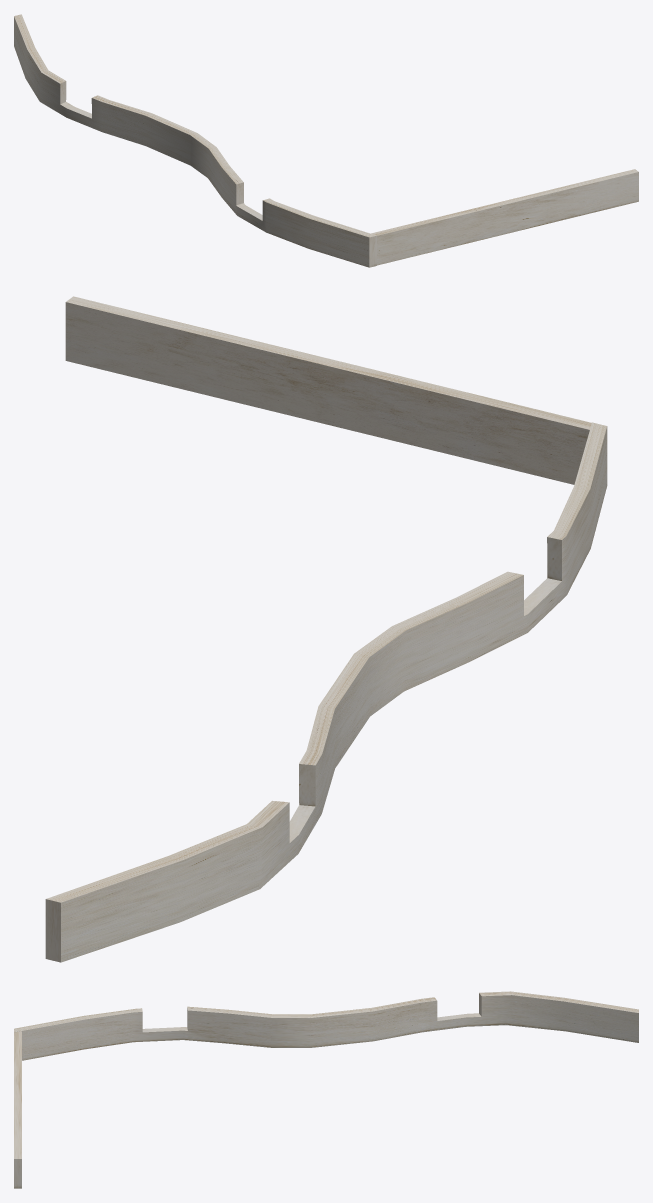
Rendered from Barda.obj.
3 views of the same model, one above another, from view 1: azimuth 30°, elevation 25°; view 2: azimuth 150°, elevation 25°; view 3: azimuth 270°, elevation 25° (orthographic). The views are drawn at different scales.
Parts seen in each view (by area): view 1: pCube10; view 2: pCube10; view 3: pCube10.
Part boxes in pixels (x1=…): pCube10: x1=14, y1=14, x2=638, y2=267; pCube10: x1=45, y1=296, x2=607, y2=962; pCube10: x1=14, y1=991, x2=638, y2=1188.
Bounding box in the file's own units: 12.22 × 1.02 × 19.26.
1 material, 1 textured.
